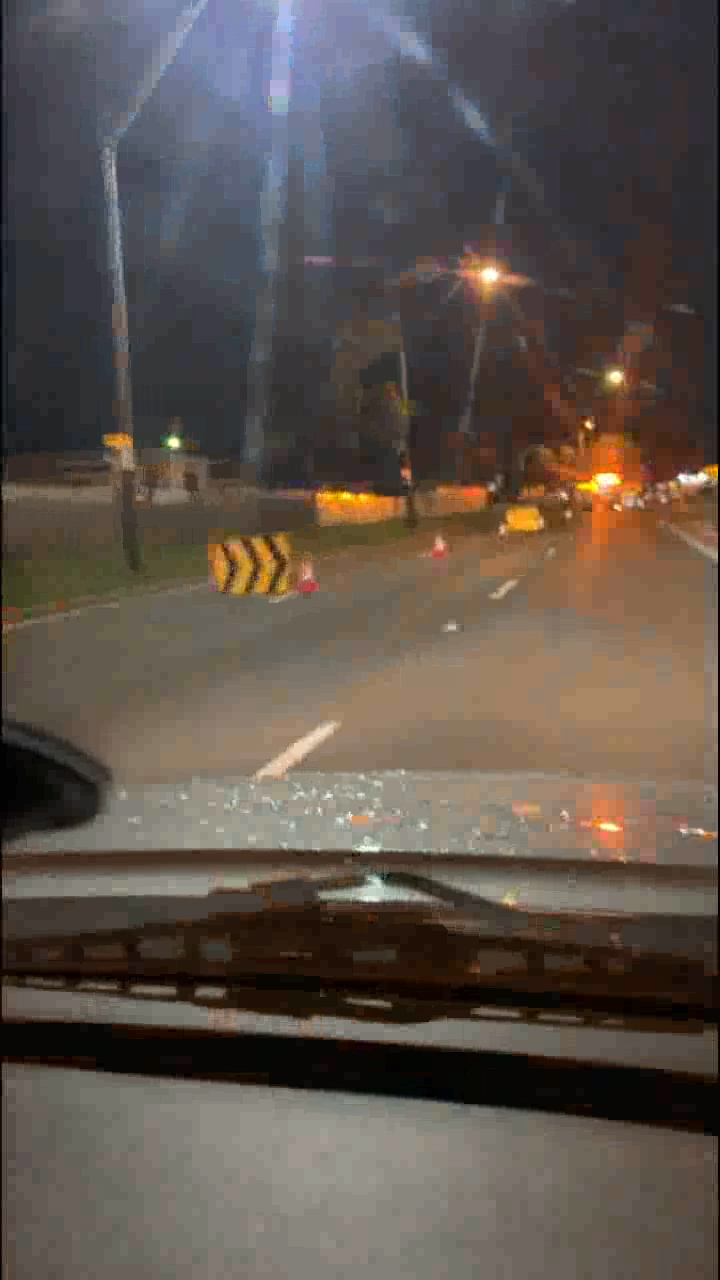road works sign board: (204, 536, 316, 600)
